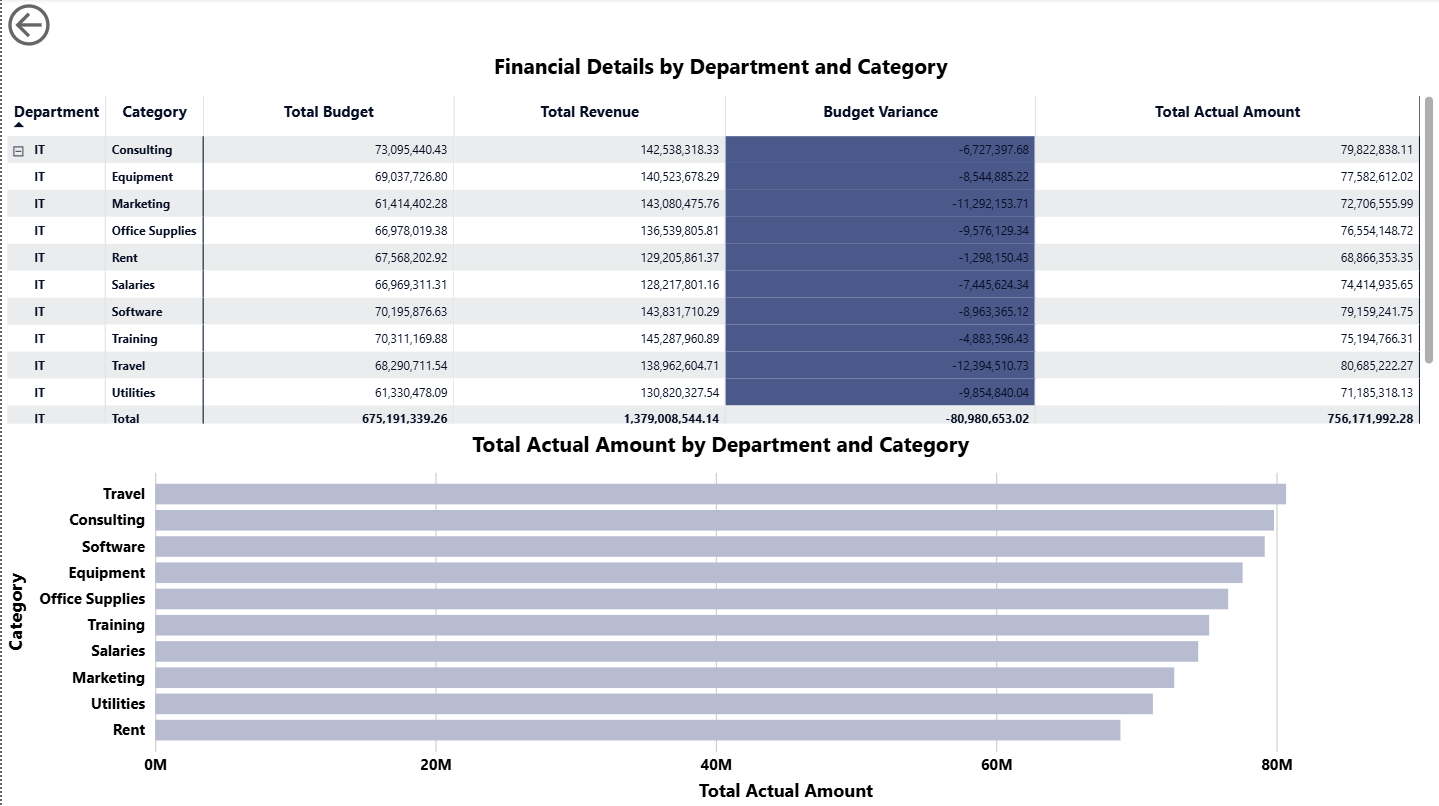

Layout of this report page (visuals, bound fields, positions):
{"tool":"powerbi","page":{"name":"Financial details","canvas":[1280,720],"ordinal":1},"visuals":[{"type":"actionButton","box":[0,0,96,48],"z":0},{"type":"pivotTable","title":"Financial Details by Department and Category","fields":{"Rows":["df.Department","df.Category"],"Values":["df.Total Budget","df.Total Revenue","df.Budget Variance","df.Total Actual Amount"]},"box":[0,48,1280,336],"z":1000},{"type":"clusteredBarChart","title":"Total Actual Amount by Department and Category","fields":{"Category":["df.Department","df.Category"],"Y":["df.Total Actual Amount"]},"box":[0,384,1280,336],"z":2000}]}

Visuals, with their boxes in screenshot pixels (x1, y1, x2, y2), scaled from the page's 1280x720 canvas onto the 1439x806 screenshot:
actionButton: {"x1": 0, "y1": 0, "x2": 108, "y2": 54}
"Financial Details by Department and Category" pivotTable: {"x1": 0, "y1": 54, "x2": 1438, "y2": 430}
"Total Actual Amount by Department and Category" clusteredBarChart: {"x1": 0, "y1": 430, "x2": 1438, "y2": 805}
